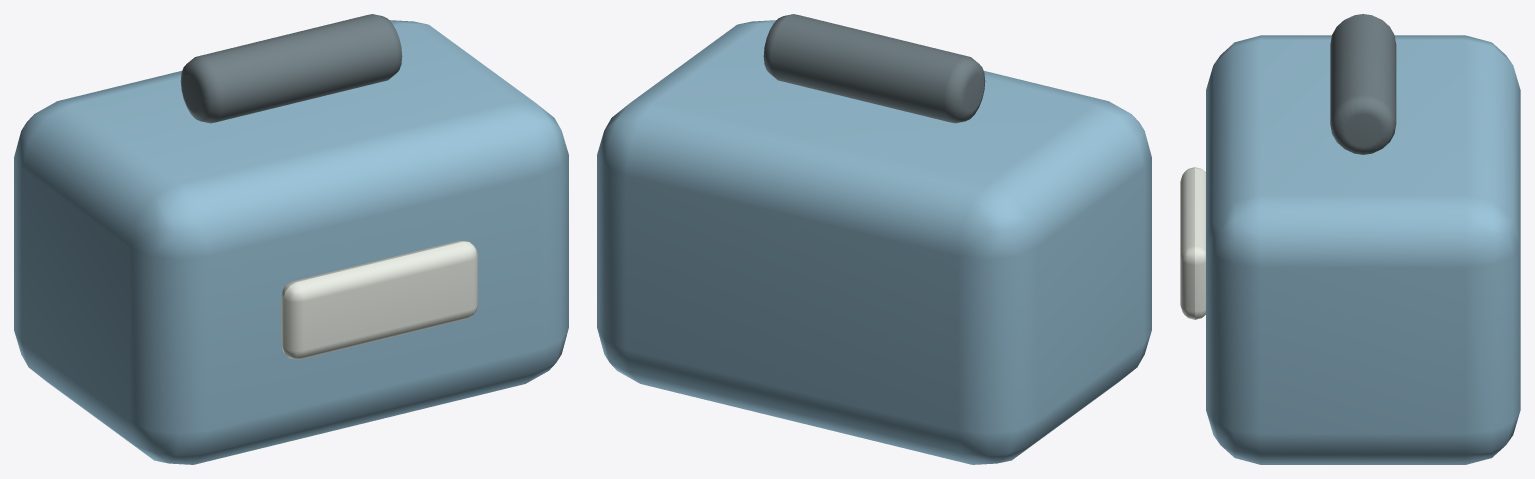
The model's file is bonus_repair.glb.
3 views of the same model, side by side, from view 1: azimuth 30°, elevation 25°; view 2: azimuth 150°, elevation 25°; view 3: azimuth 270°, elevation 25° (orthographic). The views are drawn at different scales.
Parts seen in each view (by area): view 1: Base repair toolbox, Repair badge, Toolbox handle; view 2: Base repair toolbox, Toolbox handle; view 3: Base repair toolbox, Toolbox handle, Repair badge.
Boxes of the visible parts, left/top/right/bottom form: Base repair toolbox: left=14, top=20, right=568, bottom=464; Repair badge: left=281, top=240, right=477, bottom=359; Toolbox handle: left=180, top=14, right=402, bottom=123; Base repair toolbox: left=597, top=20, right=1151, bottom=464; Toolbox handle: left=763, top=14, right=985, bottom=123; Base repair toolbox: left=1206, top=35, right=1520, bottom=464; Toolbox handle: left=1330, top=14, right=1396, bottom=154; Repair badge: left=1180, top=167, right=1205, bottom=319.
Bounding box in the file's own units: 0.65 × 0.495 × 0.465.
